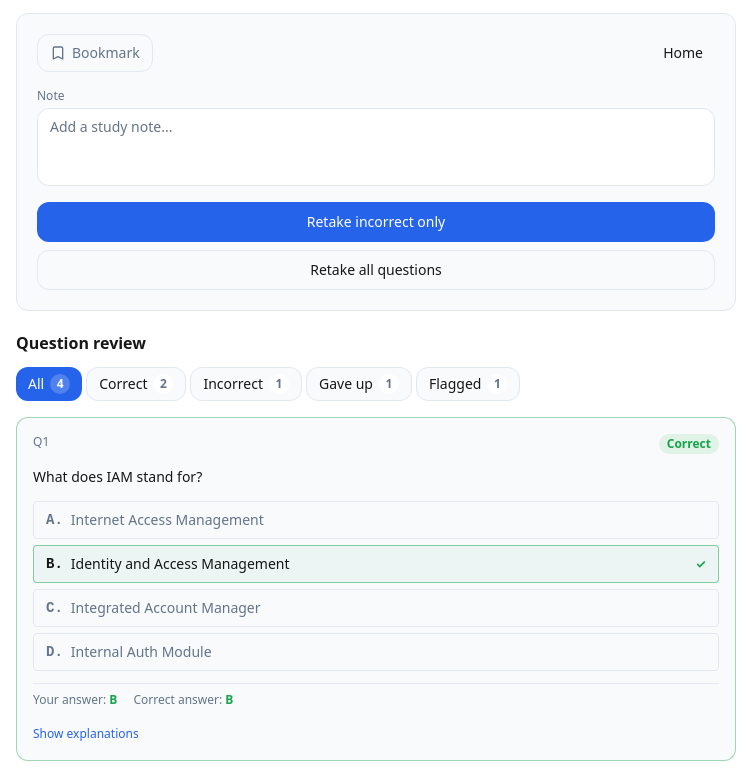
<DetailFilterBar> — filtering › Flagged filter shows only the 1 flagged question
(page scrolled)
What coordinates should you click on to do the following:
click the tab "Flagged 1"
I would click on:
 (468, 384)
Its box is [416, 367, 520, 401].
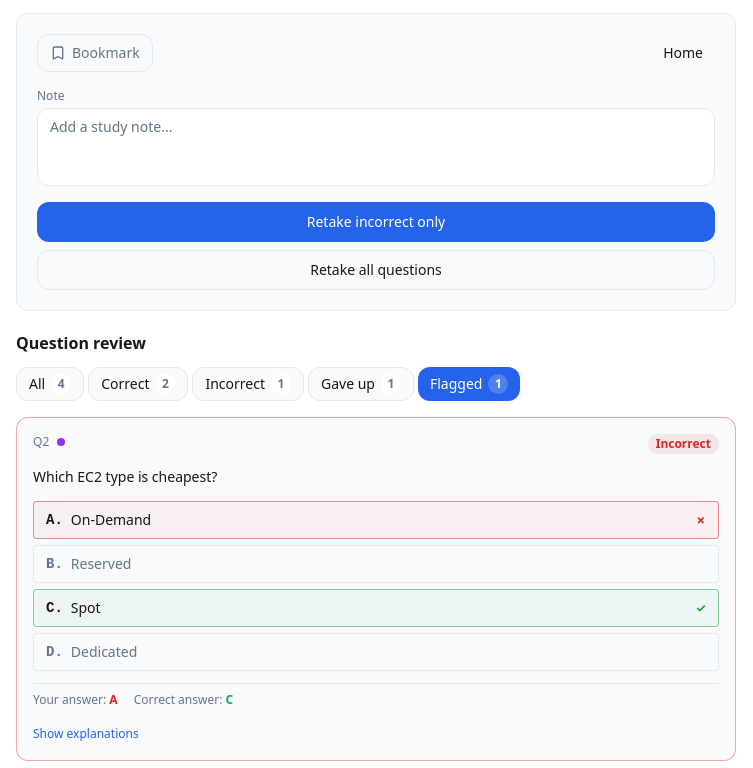
Expected: the text "Which EC2 type is cheapest?" is shown, [33, 467, 217, 486]
Result: the text "What does IAM stand for?" is gone
